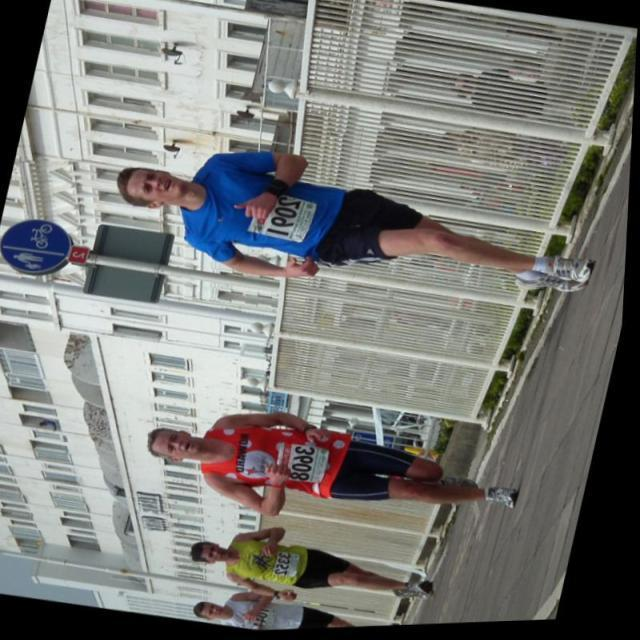dorsal: (247, 185, 327, 252), (272, 440, 342, 495), (270, 547, 312, 584), (249, 608, 284, 633)
